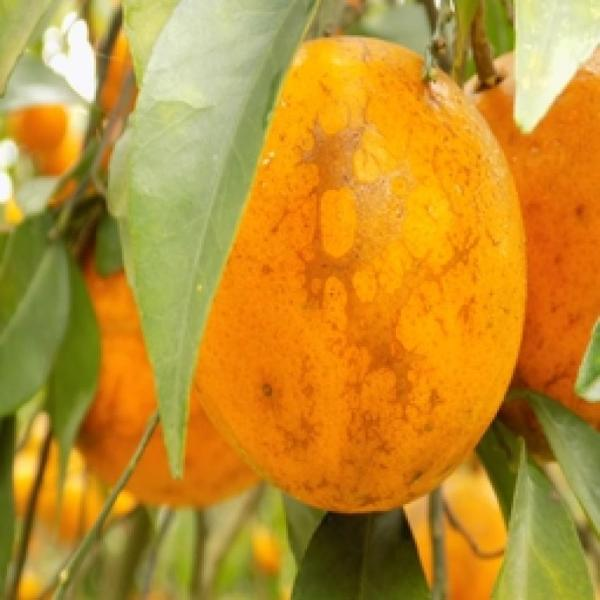Canker: (171, 23, 536, 538), (44, 207, 271, 516), (473, 62, 600, 409)
